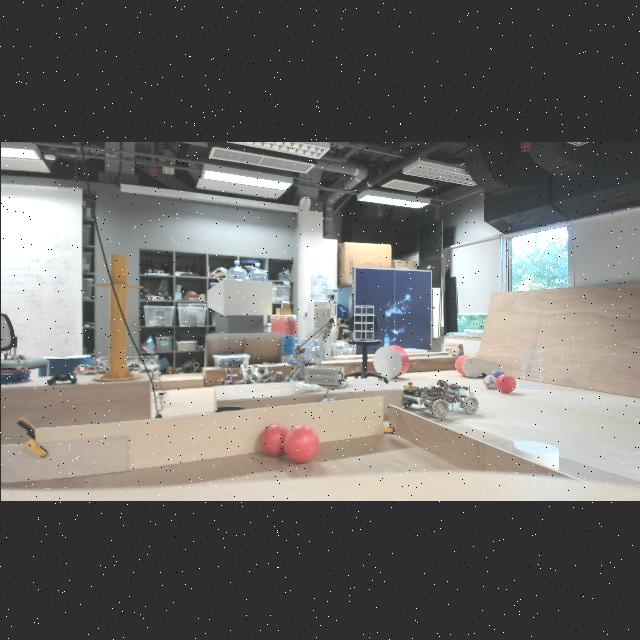P: (490, 369, 504, 379)
R: (280, 426, 322, 460), (259, 422, 291, 454), (494, 374, 516, 391)
